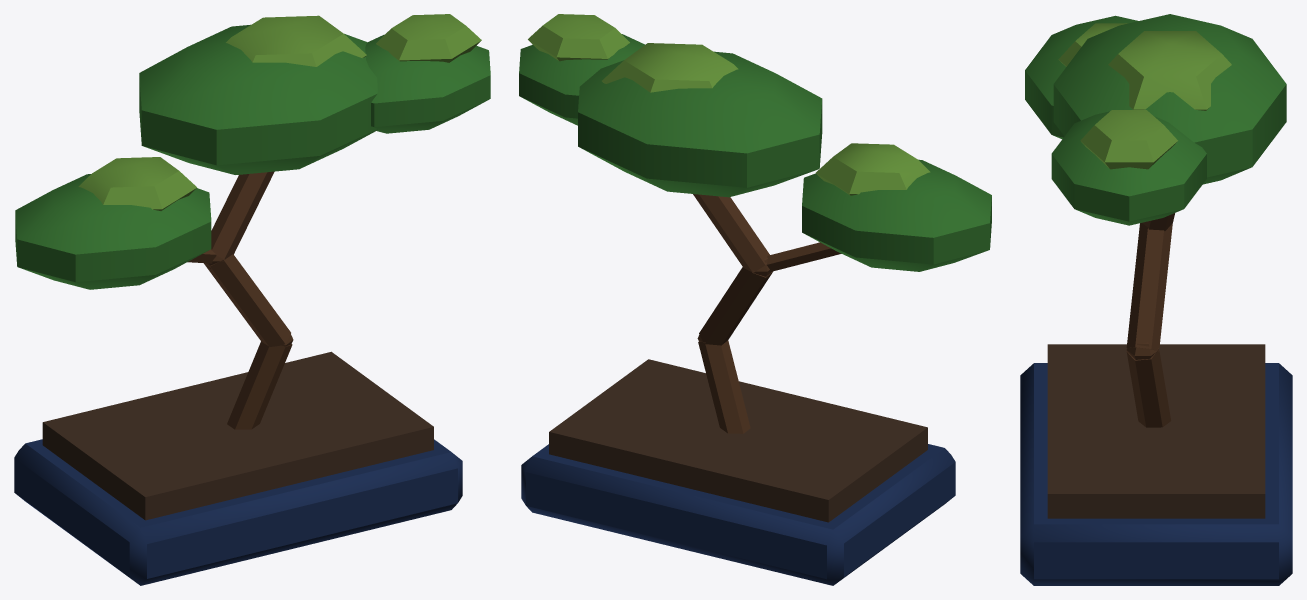
File: plant_bonsai.glb
The picture shows the model from 3 angles, left to right: view 1: azimuth 30°, elevation 25°; view 2: azimuth 150°, elevation 25°; view 3: azimuth 270°, elevation 25°; orthographic projection. The views are drawn at different scales.
Parts seen in each view (by area): view 1: plant_bonsai; view 2: plant_bonsai; view 3: plant_bonsai.
Boxes of the visible parts, x1=… form: plant_bonsai: x1=14, y1=14, x2=490, y2=585; plant_bonsai: x1=519, y1=14, x2=991, y2=585; plant_bonsai: x1=1020, y1=14, x2=1292, y2=585.
Size of the model in its own units: 0.4307 by 0.397 by 0.2.
